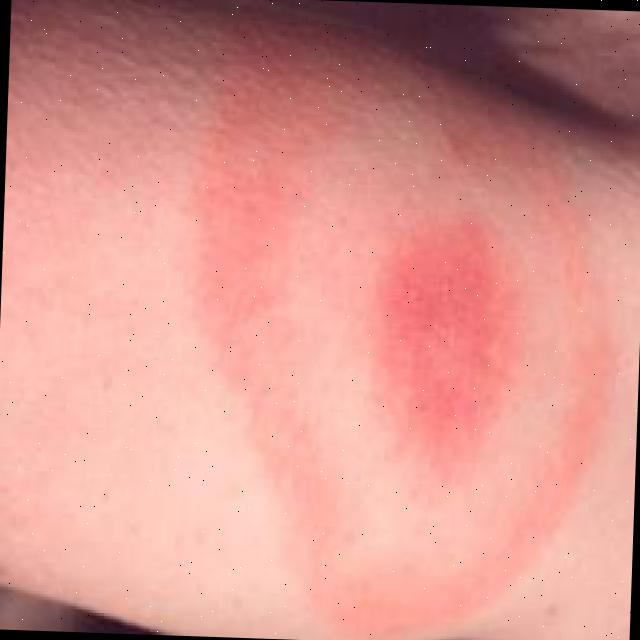kene: (113, 13, 640, 640)
